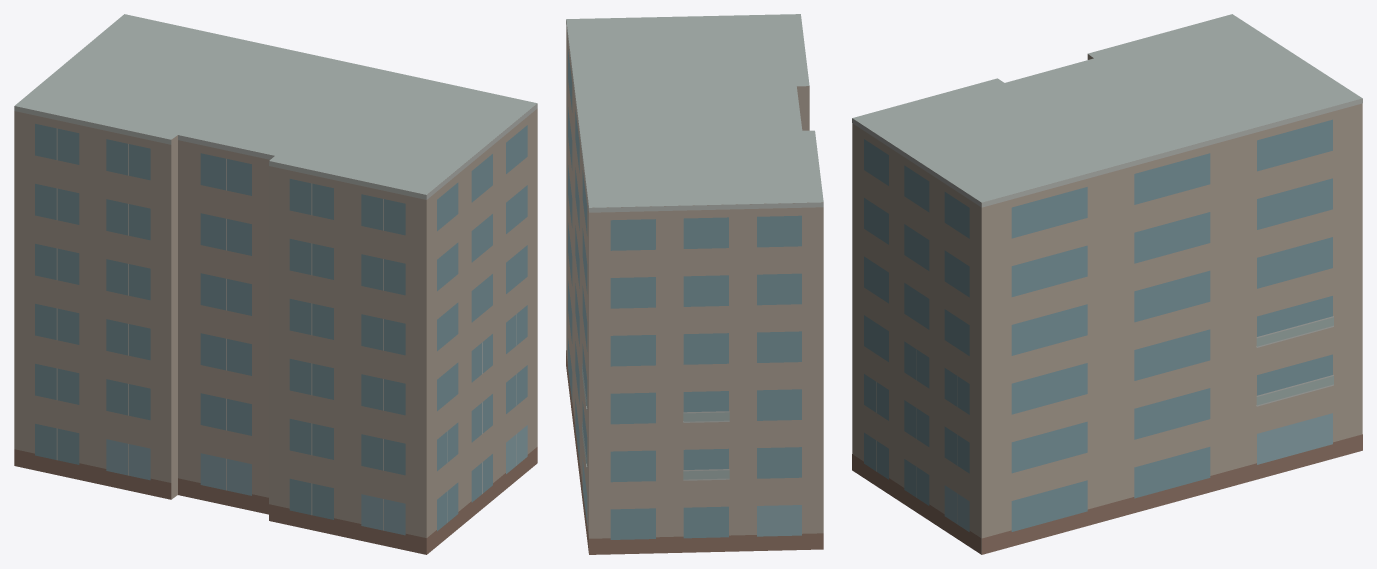
The model's file is survey-upis-32735693.glb.
3 renders of one model, left to right at view 1: azimuth 30°, elevation 25°; view 2: azimuth 150°, elevation 25°; view 3: azimuth 270°, elevation 25°, orthographic. The views are drawn at different scales.
Visible parts, largest first — view 1: survey-upis-32735693.tmp; view 2: survey-upis-32735693.tmp; view 3: survey-upis-32735693.tmp.
Part boxes in pixels (x1,y1,x2,y2): survey-upis-32735693.tmp: (14, 14, 537, 554); survey-upis-32735693.tmp: (566, 14, 823, 554); survey-upis-32735693.tmp: (852, 14, 1362, 554).
Size of the model in its own units: 19.88 by 17.3 by 22.74.
